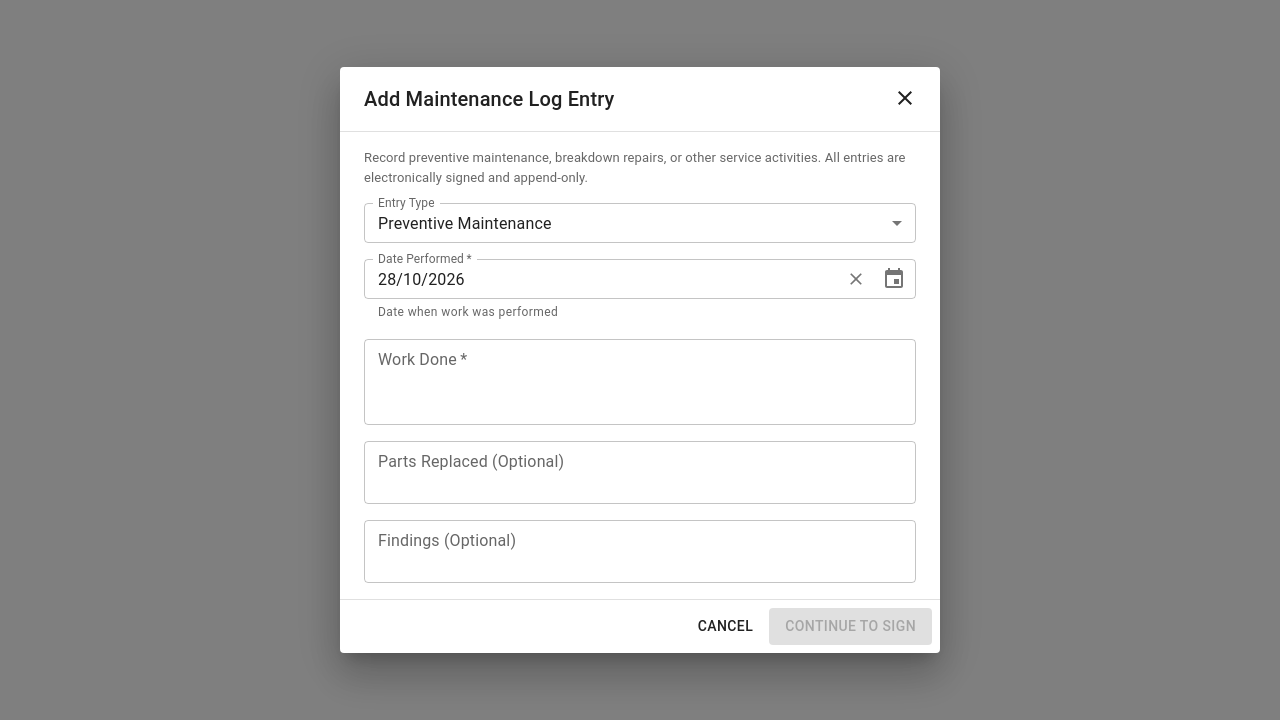
Test: AddLogEntryDialog › Continue to sign is disabled until required fields are filled
Expected: the button "Continue to sign" is disabled, [769, 608, 932, 645]
Type "Replaced filter" into the text box labelled "Work Done *".
click(640, 382); type("Replaced filter")  # box [378, 348, 902, 417]
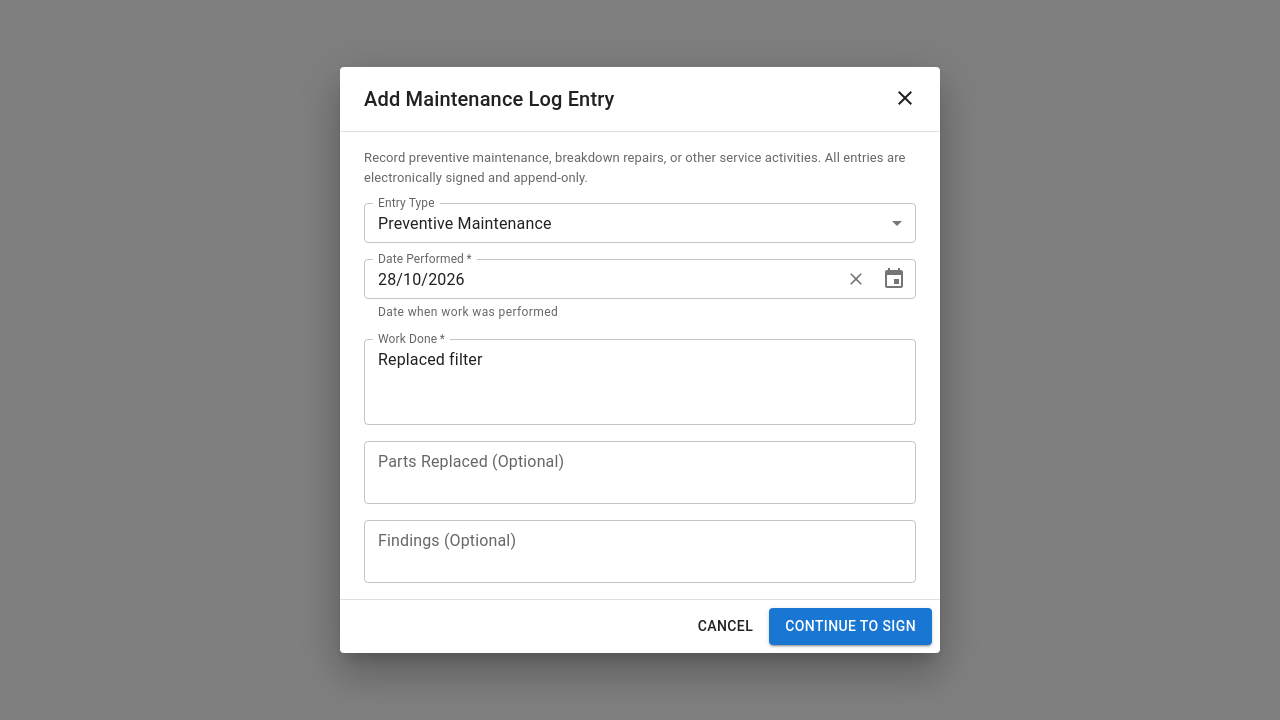
Now the button "Continue to sign" is enabled, box [769, 608, 932, 645]
